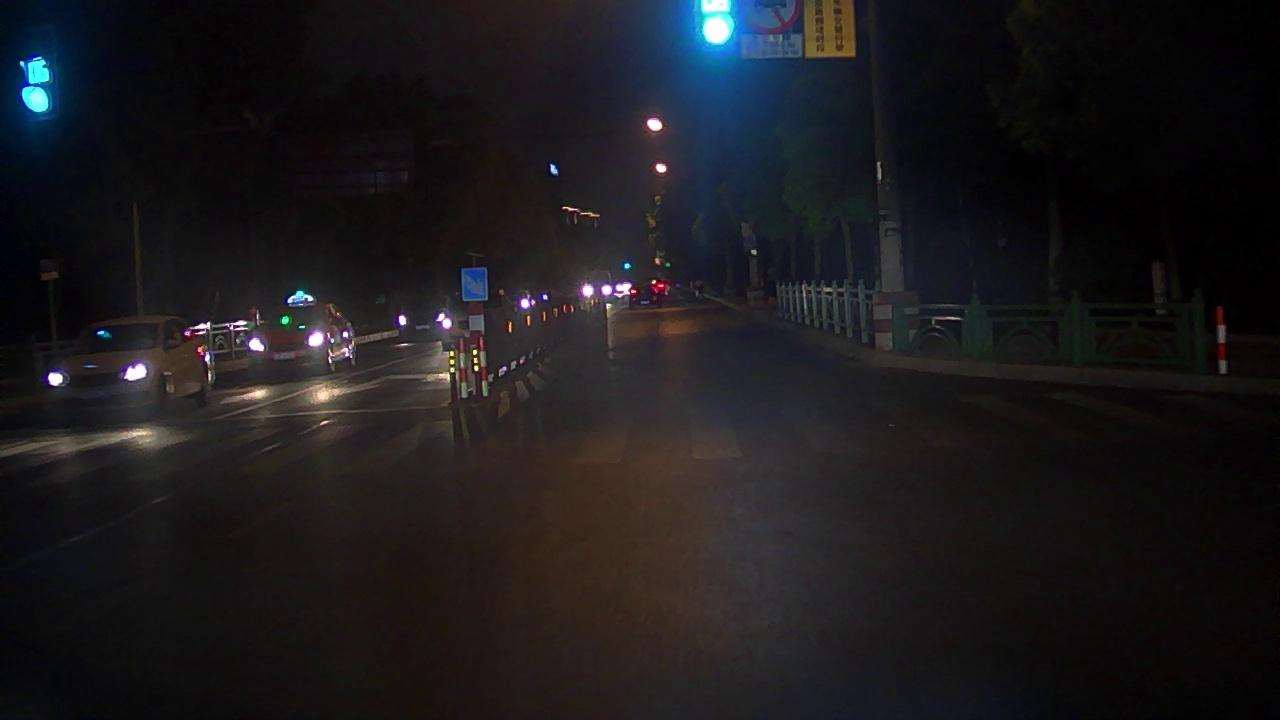traffic_light: (21, 32, 55, 116), (694, 1, 738, 55)
